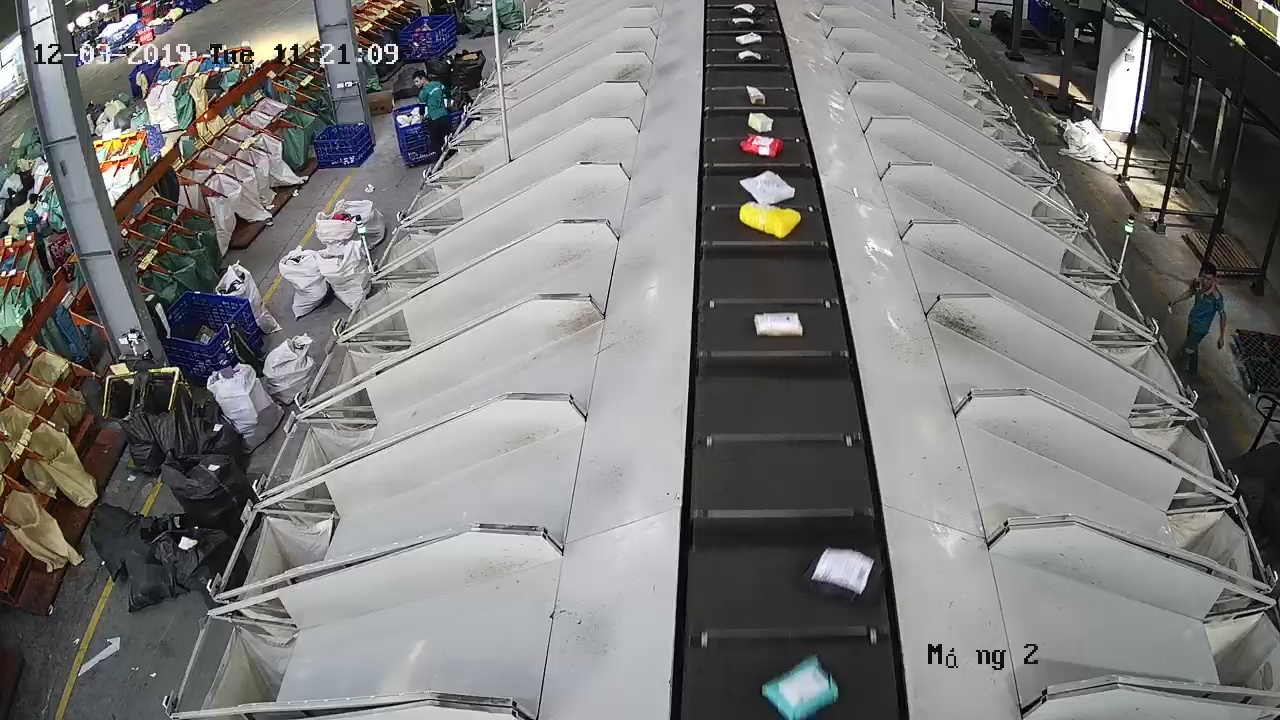parcel: (760, 653, 840, 720), (801, 545, 886, 606), (752, 311, 804, 337), (739, 133, 785, 159)
